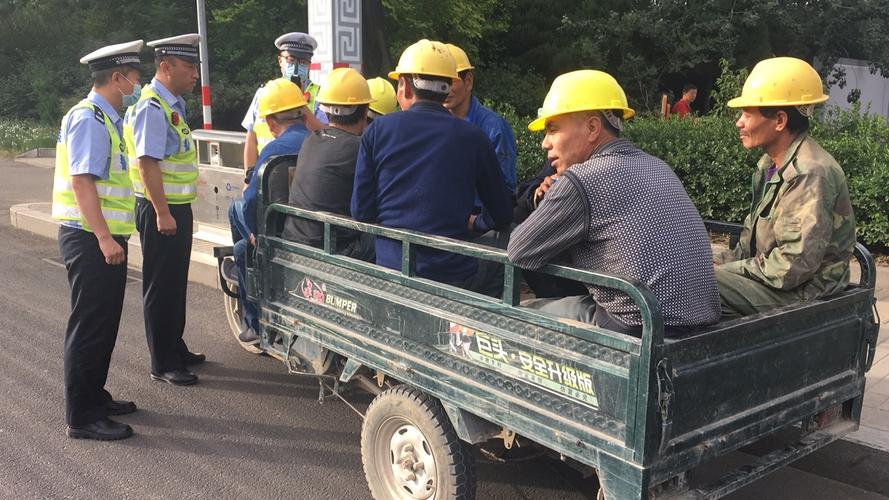driver: (251, 91, 295, 248)
overloading: (247, 65, 867, 500)
passenger: (508, 71, 709, 339), (717, 58, 853, 310), (370, 50, 497, 285), (309, 71, 371, 243)
